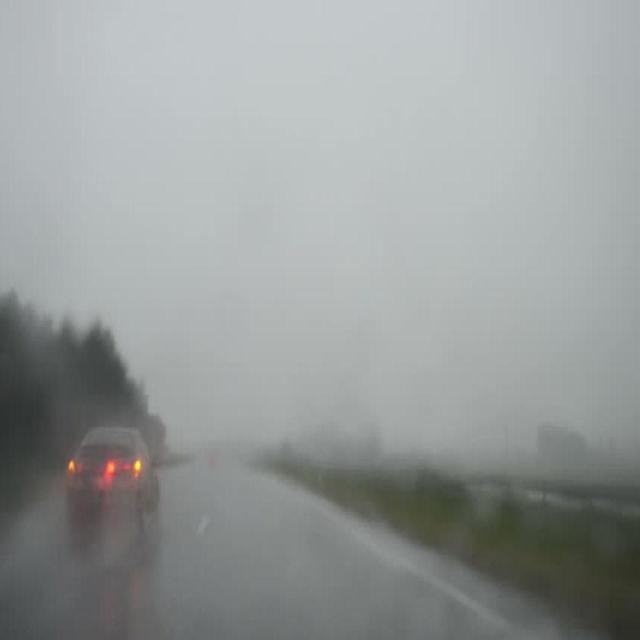Car: (58, 388, 165, 537)
